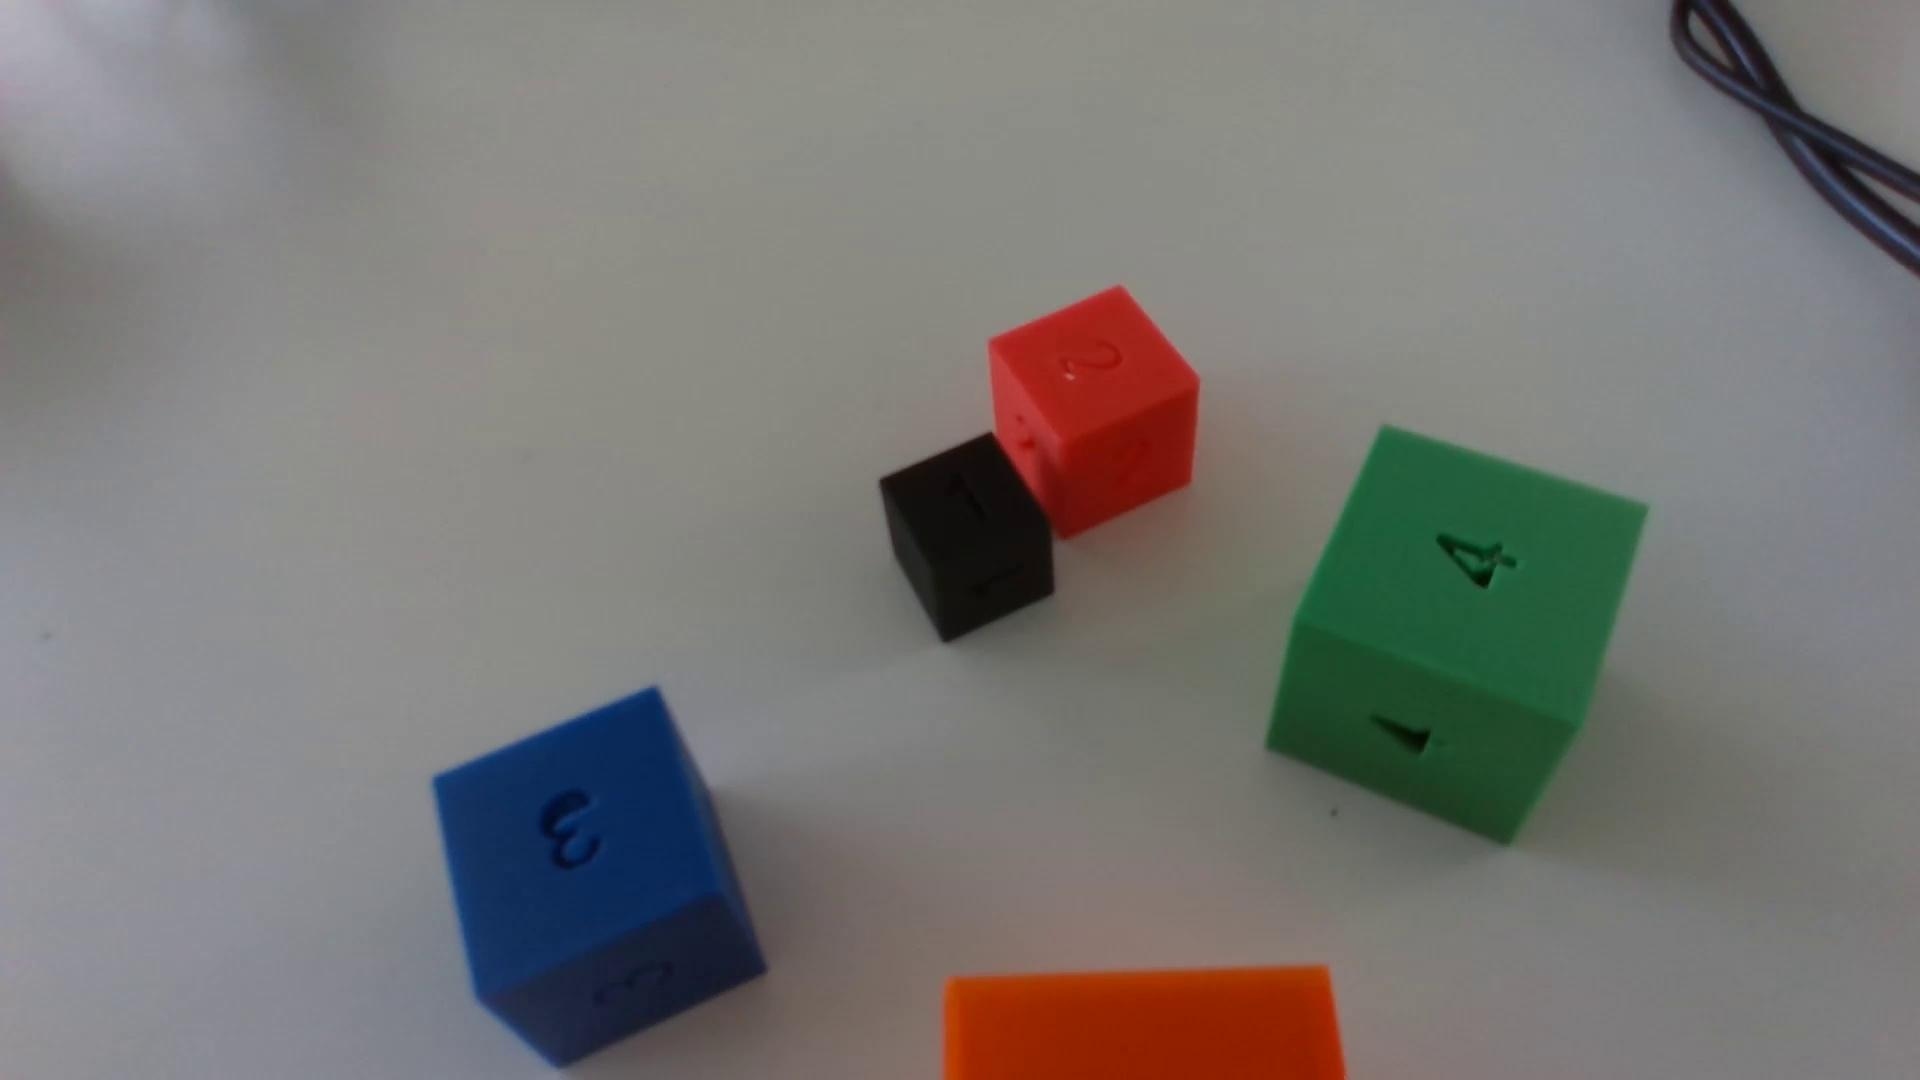black: (880, 434, 1054, 644)
blue: (433, 688, 766, 1068)
green: (1267, 429, 1647, 843)
orange: (942, 967, 1345, 1080)
red: (988, 289, 1200, 541)
